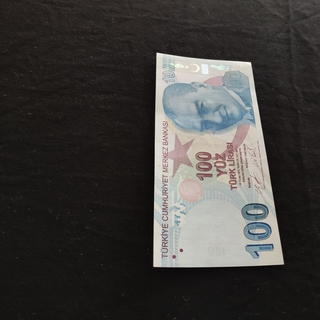100TLFront: (152, 49, 284, 268)
